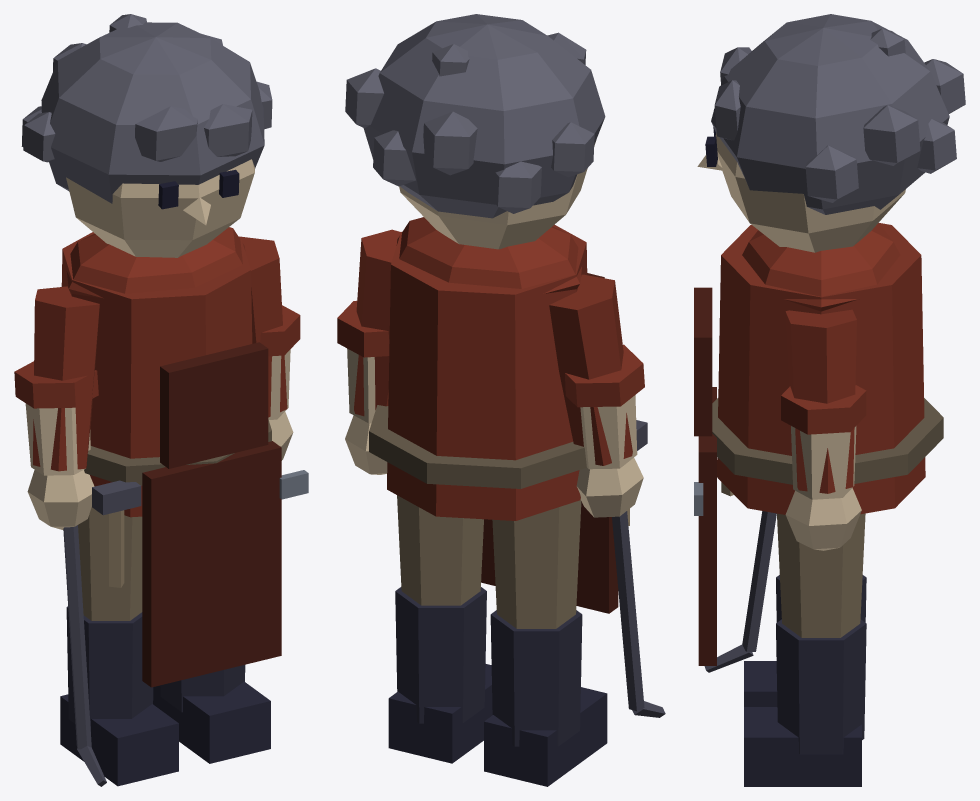
The model's file is jory.glb.
The picture shows the model from 3 angles, left to right: view 1: azimuth 30°, elevation 25°; view 2: azimuth 150°, elevation 25°; view 3: azimuth 270°, elevation 25°; orthographic projection. The views are drawn at different scales.
Visible parts, largest first — view 1: Torso, Head, ArmR, LegR, LegL, ArmL; view 2: Torso, Head, LegR, LegL, ArmR, ArmL; view 3: Torso, Head, LegL, ArmL, ArmR, LegR.
Boxes of the visible parts, x1,y1,x2,y2 form: Torso: [61, 227, 308, 687]; Head: [21, 14, 272, 257]; ArmR: [14, 286, 106, 786]; LegR: [60, 507, 178, 786]; LegL: [153, 665, 270, 763]; ArmL: [239, 236, 300, 460]; Torso: [369, 217, 647, 613]; Head: [345, 14, 605, 249]; LegR: [484, 499, 607, 786]; LegL: [388, 495, 492, 763]; ArmR: [549, 274, 665, 717]; ArmL: [337, 229, 400, 474]; Torso: [694, 223, 943, 665]; Head: [697, 14, 965, 252]; LegL: [744, 513, 866, 786]; ArmL: [781, 309, 866, 550]; ArmR: [704, 511, 776, 672]; LegR: [744, 575, 866, 706].
Bounding box in the file's own units: 0.7432 × 1.83 × 0.6226.
